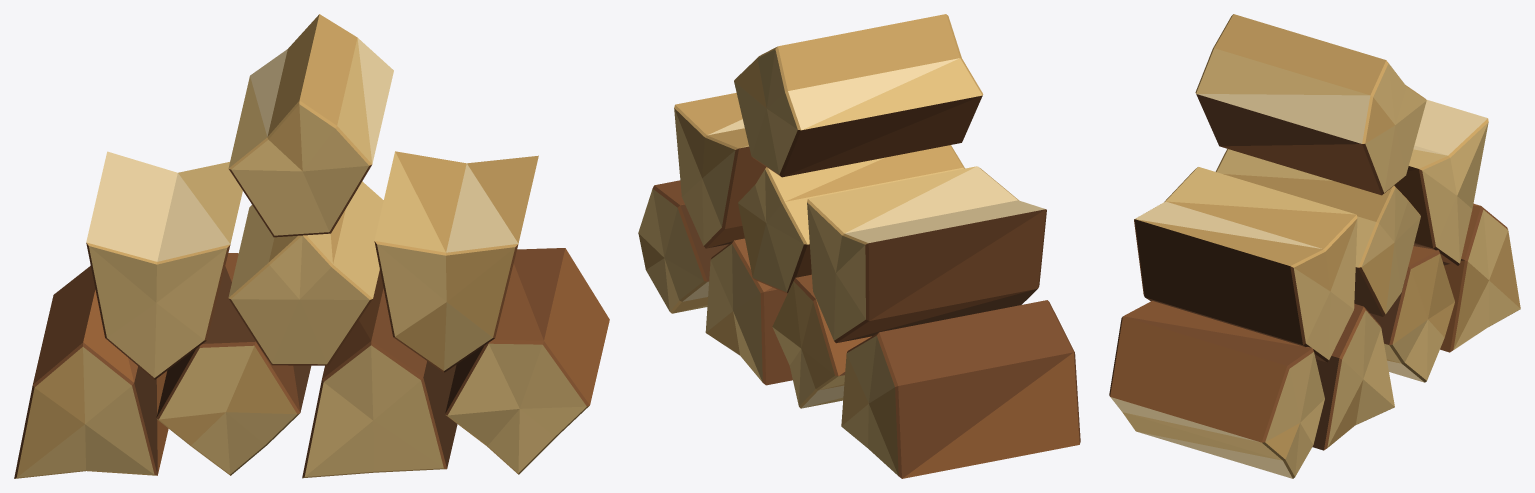
Rendered from FMS_Wood_Firewood_Pile.fbx.
3 views of the same model, side by side, from view 1: azimuth 30°, elevation 25°; view 2: azimuth 150°, elevation 25°; view 3: azimuth 270°, elevation 25° (orthographic). The views are drawn at different scales.
Parts seen in each view (by area): view 1: FMS_Wood_Firewood_Pile; view 2: FMS_Wood_Firewood_Pile; view 3: FMS_Wood_Firewood_Pile.
Boxes of the visible parts, box(x1,y1,x2,y2) form: FMS_Wood_Firewood_Pile: box(14, 14, 609, 478); FMS_Wood_Firewood_Pile: box(638, 14, 1080, 478); FMS_Wood_Firewood_Pile: box(1109, 14, 1520, 478).
Size of the model in its own units: 1.29 by 0.8541 by 0.9273.
